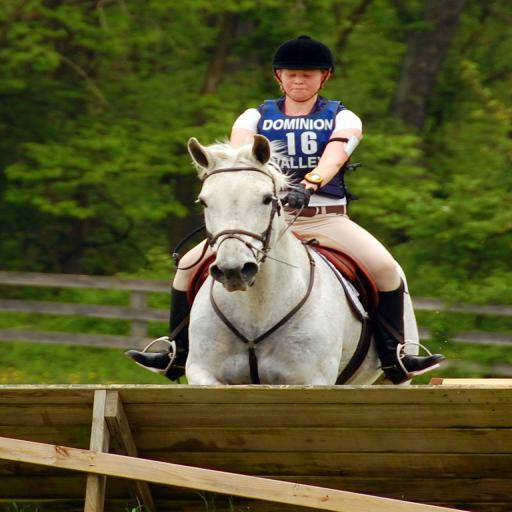horse: (188, 136, 418, 386)
